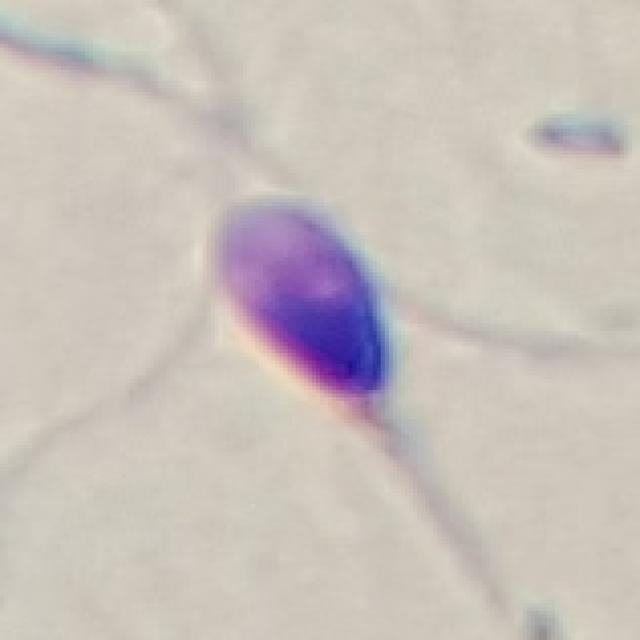normal sperm: (208, 194, 430, 490)
